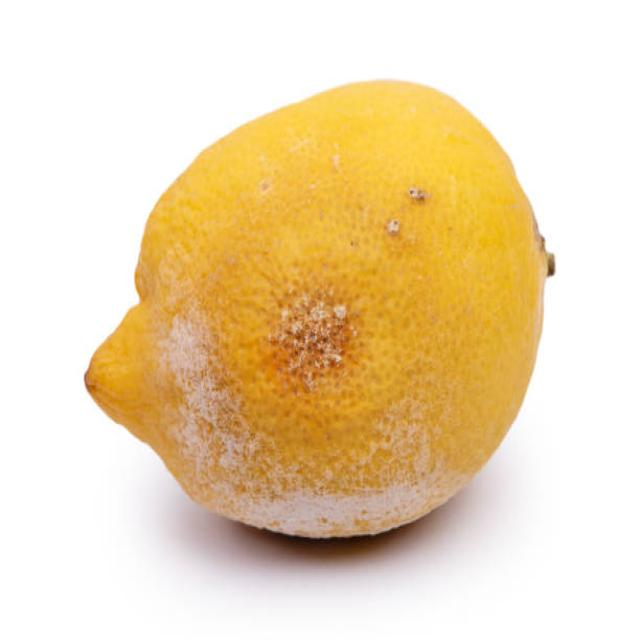overripe: (74, 73, 561, 546)
